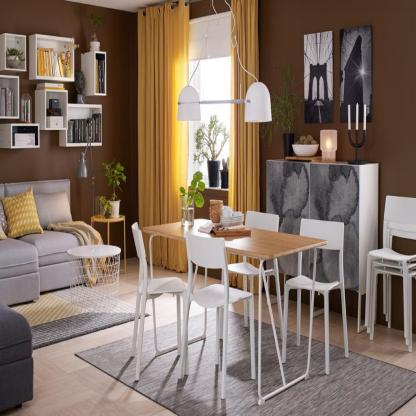Chair: (183, 230, 258, 402), (279, 216, 351, 376), (130, 222, 190, 385), (364, 195, 416, 353)
Sofa: (0, 176, 99, 308)
Table: (66, 242, 121, 305)
